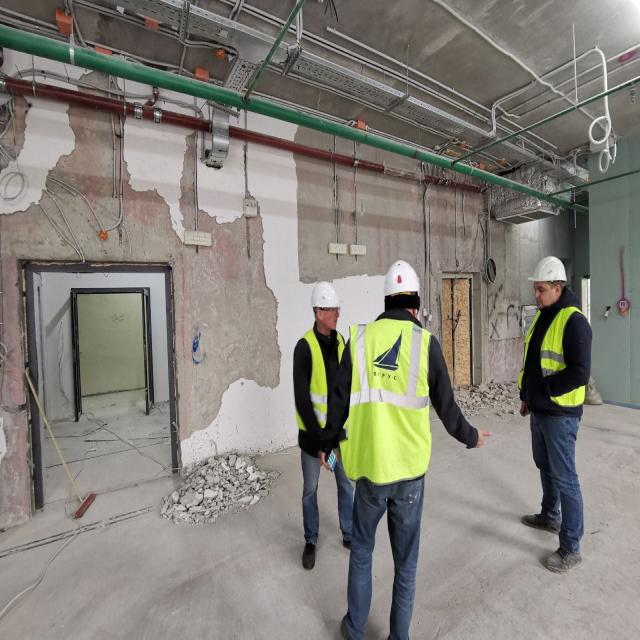Helmet: (384, 261, 422, 299), (528, 258, 568, 289), (312, 282, 342, 317)
Jacket: (352, 323, 434, 477), (525, 306, 580, 408), (303, 333, 346, 432)
